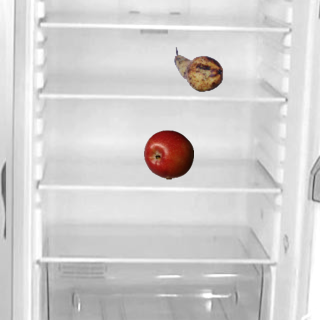Apple Braeburn: (143, 129, 193, 179)
Pear Abate: (173, 44, 223, 94)
